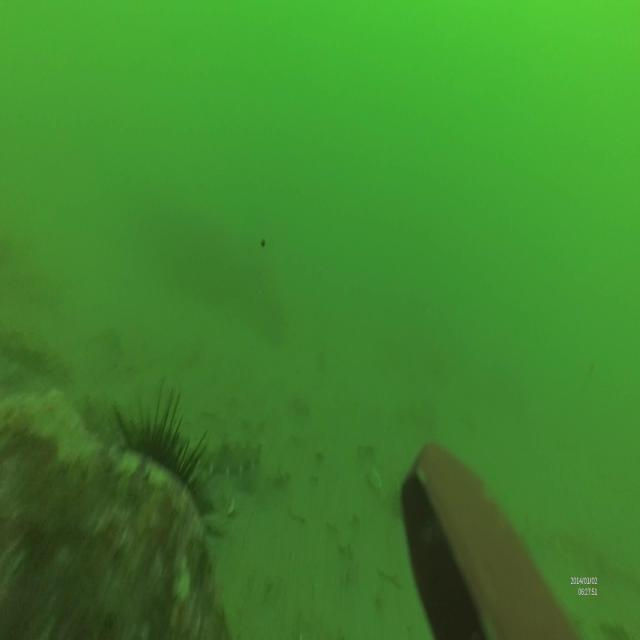echinus: (107, 380, 215, 555)
holothurian: (178, 434, 263, 477)
